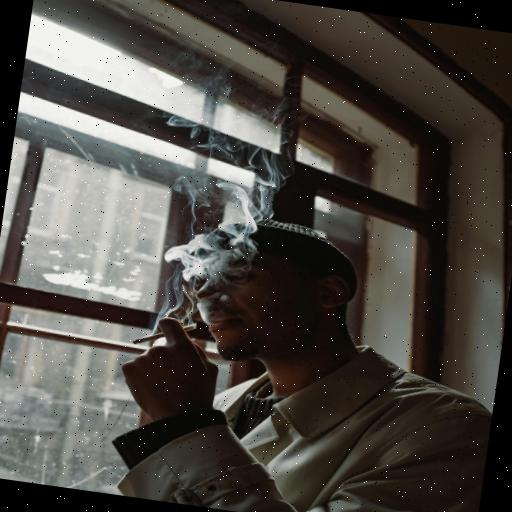terdeteksi pegang rokok: (98, 278, 244, 416)
